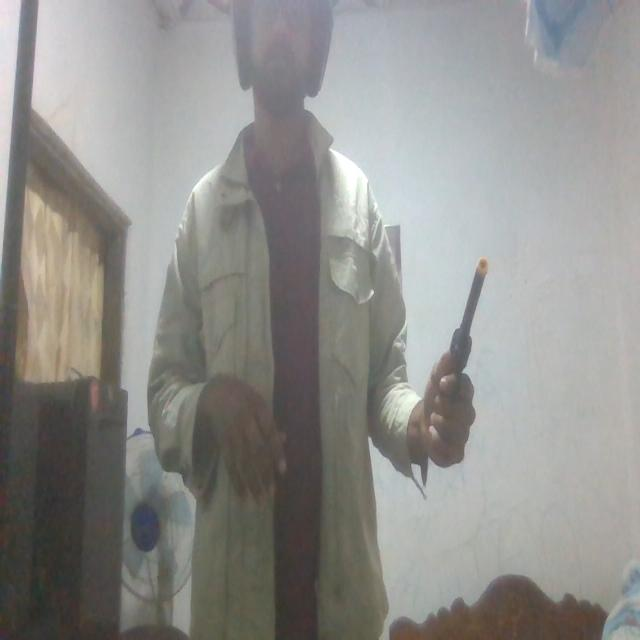Gun_Holder: (430, 244, 505, 450)
Helmet_Wearer: (230, 0, 348, 104)
Jacket_Wearer: (144, 118, 424, 640)
Person: (140, 0, 465, 640)
